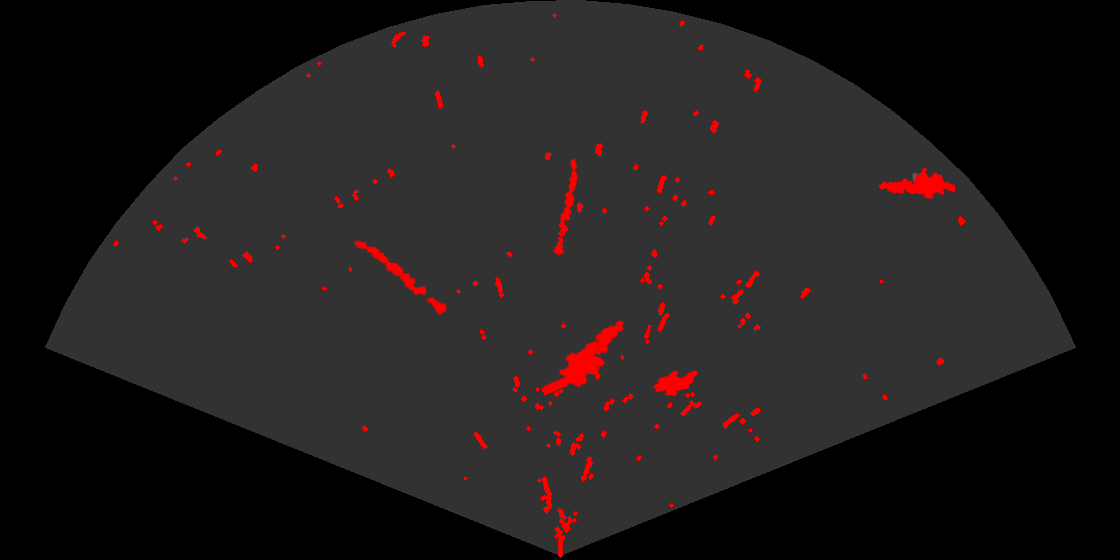AUV: (652, 369, 699, 398)
chain: (353, 239, 448, 317), (552, 157, 579, 258)
frogman: (544, 319, 626, 398), (877, 166, 955, 201)
